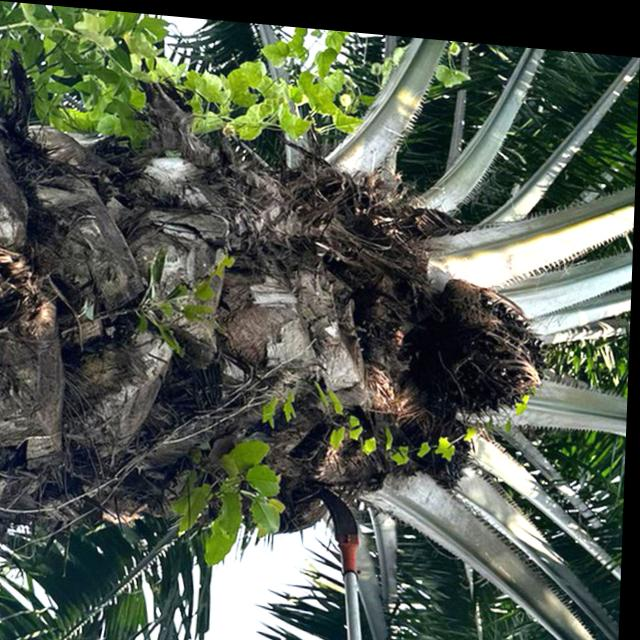unripe: (403, 259, 568, 429)
